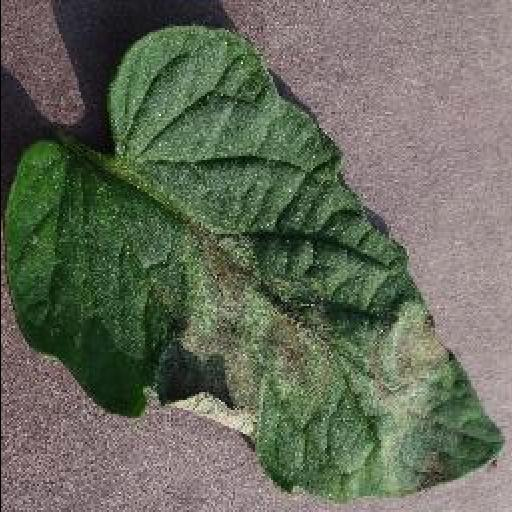disease_tomato: (0, 22, 504, 502)
